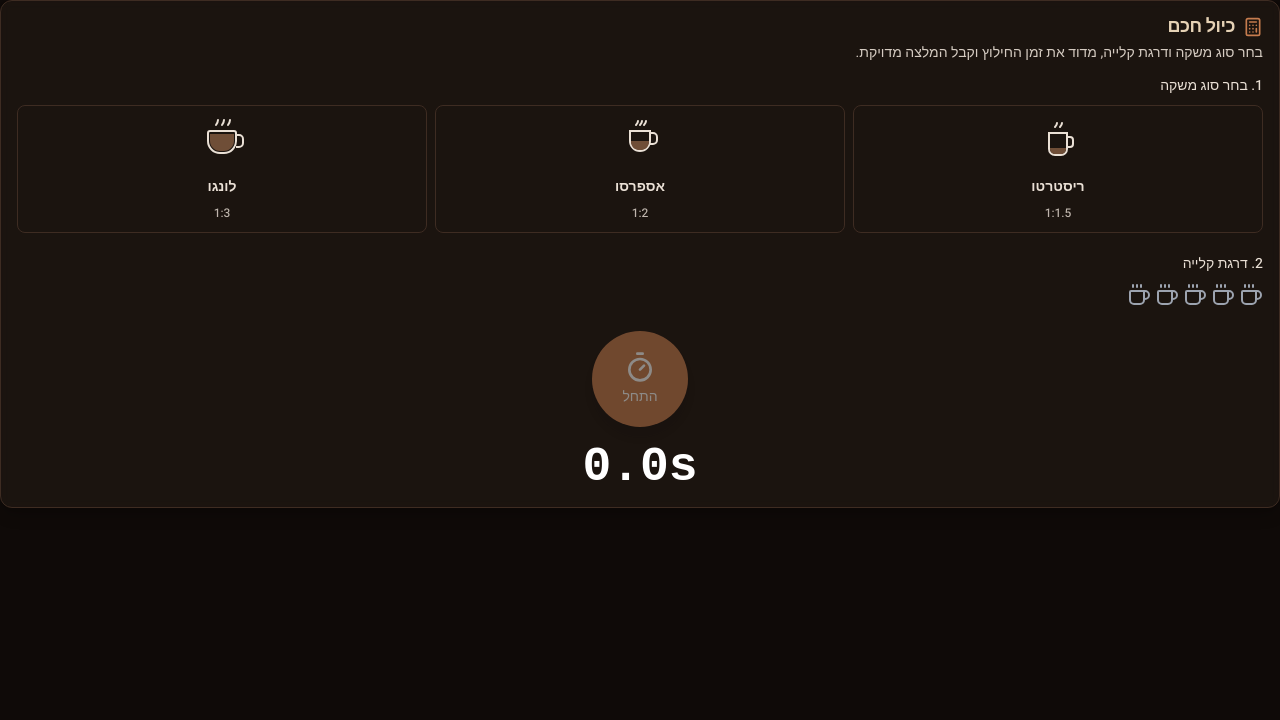
Test: SmartDialIn › enables start button only when all inputs are filled
Step 1. Click the button "אספרסו 1:2" → (640, 141), box [435,105,845,233]
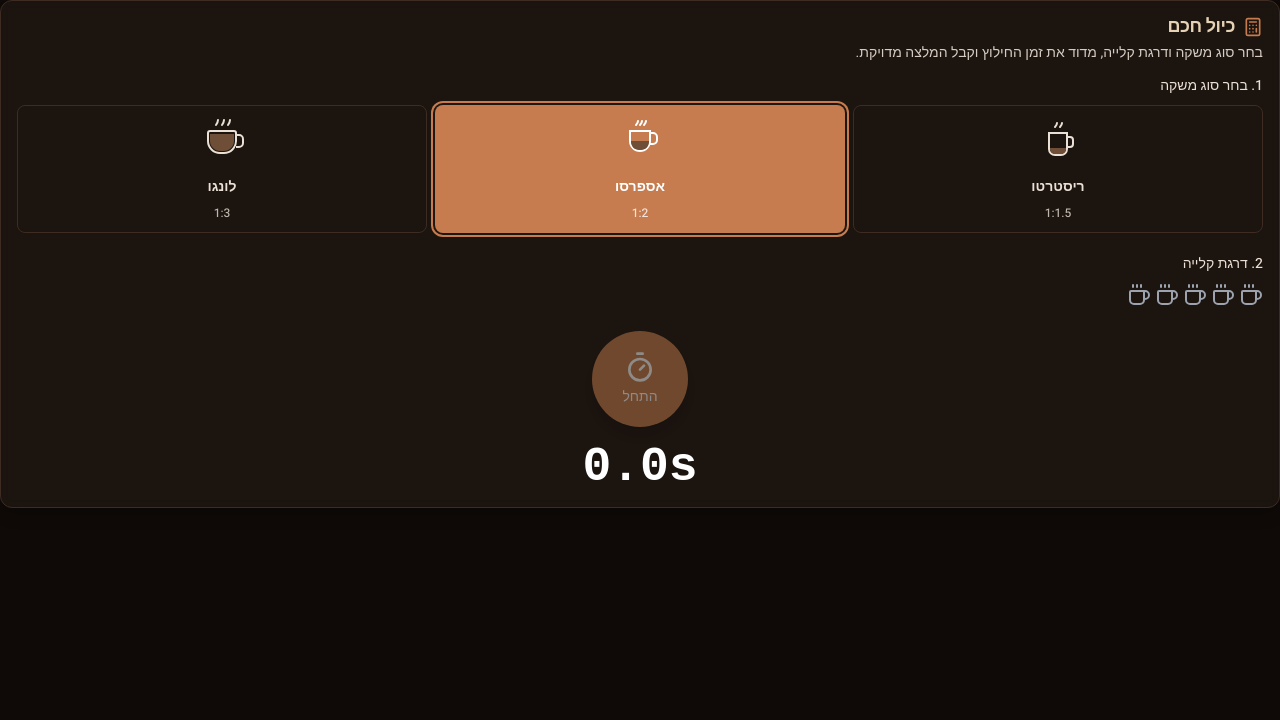
Expected: the button "התחל" is disabled, [592,331,688,427]
Step 2. Click the radio button named "דרגת קלייה 3 מתוך 5" → (1195, 295), box [1183,283,1207,307]
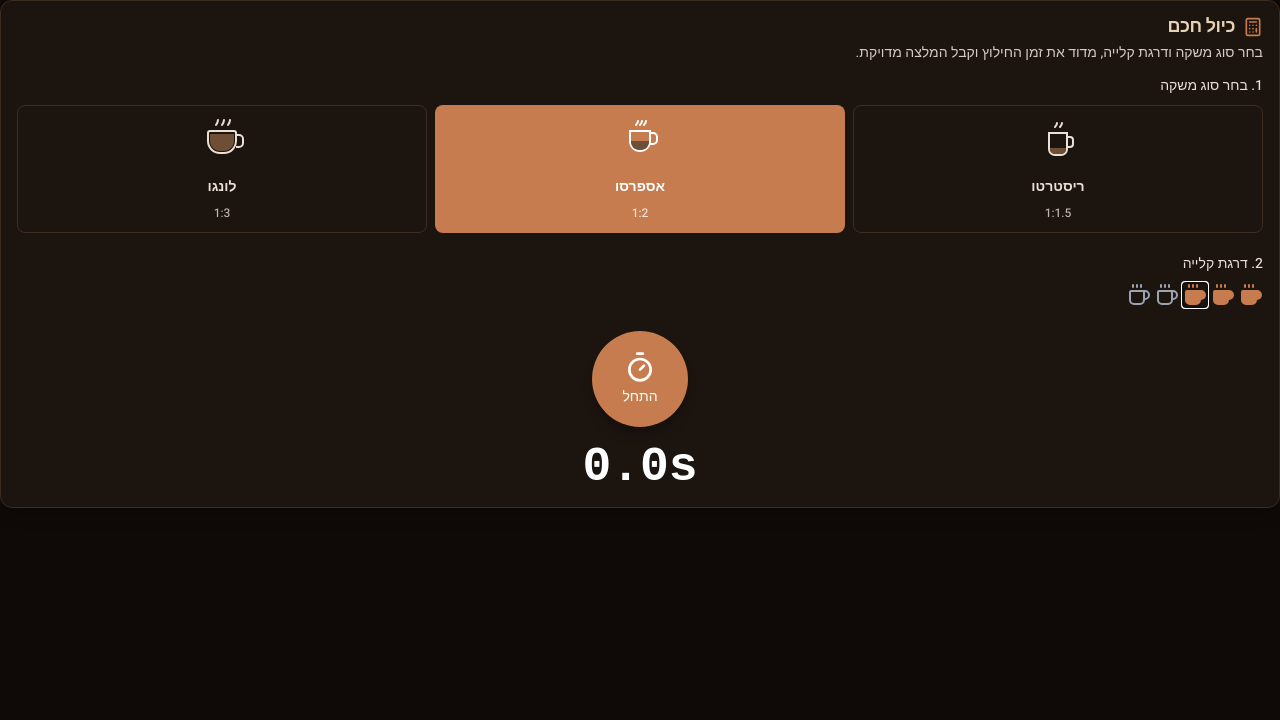
Result: the button "התחל" is enabled at [592,331,688,427]
